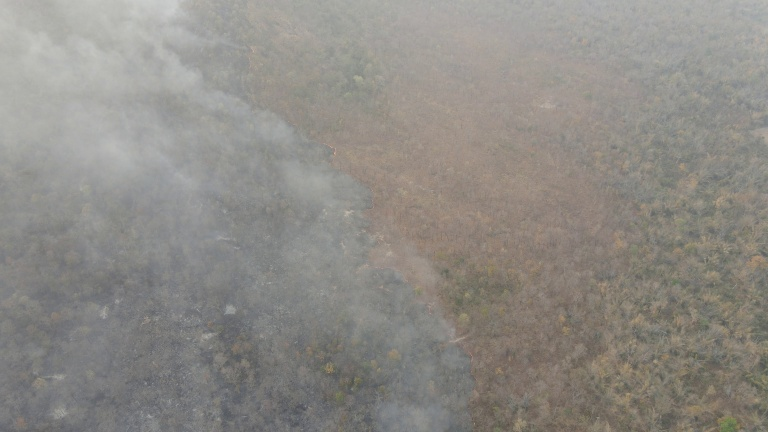smoke: (1, 88, 480, 430), (1, 1, 210, 90)
